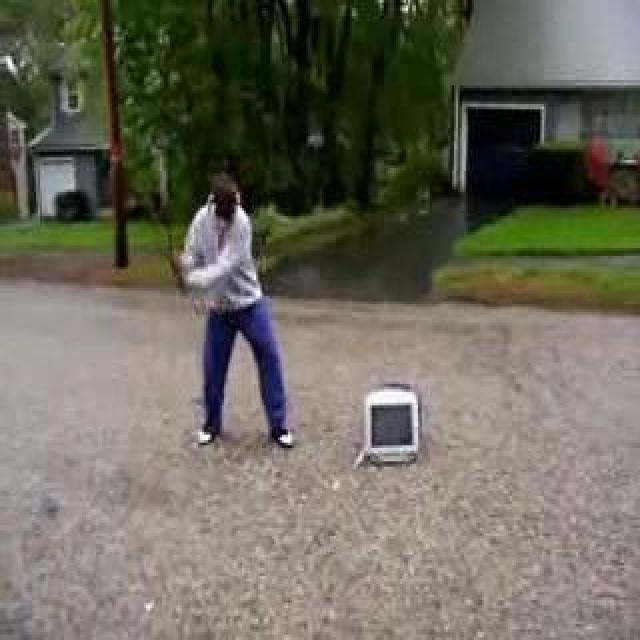fight: (135, 102, 435, 510)
